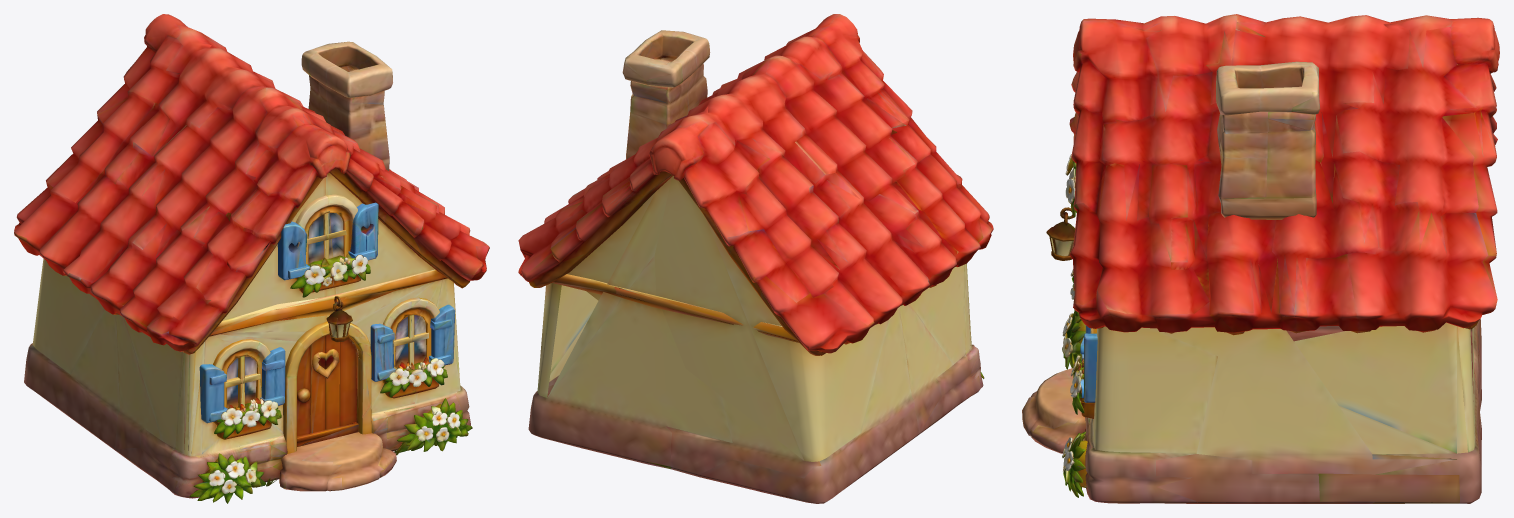
File: white_cottage.glb
The picture shows the model from 3 angles, left to right: view 1: azimuth 30°, elevation 25°; view 2: azimuth 150°, elevation 25°; view 3: azimuth 270°, elevation 25°; orthographic projection. The views are drawn at different scales.
Visible parts, largest first — view 1: geometry_0; view 2: geometry_0; view 3: geometry_0.
Boxes of the visible parts, <box> form: geometry_0: <box>14,14,489,503</box>; geometry_0: <box>518,14,993,503</box>; geometry_0: <box>1022,14,1499,503</box>.
Size of the model in its own units: 0.9531 by 0.8755 by 0.9297.
Materials: 1 (1 with a texture image).
